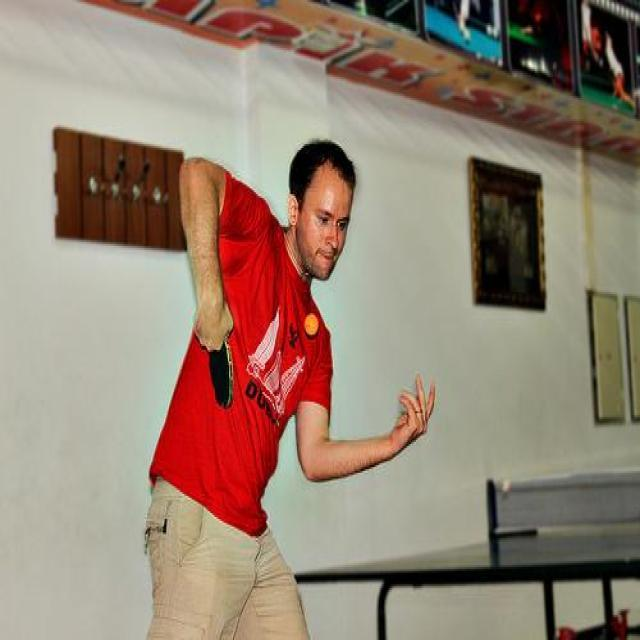ping-pong-ball: (304, 312, 320, 337)
